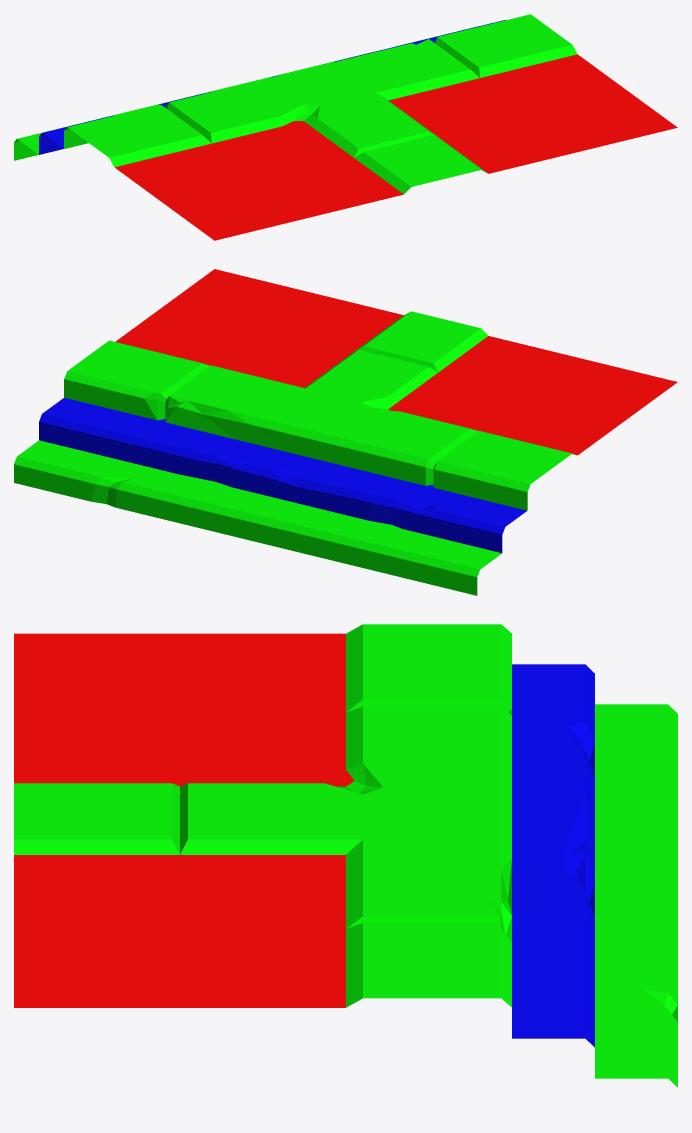
The model's file is dungeon_stairs_edge.fbx.
The picture shows the model from 3 angles, top to bottom: view 1: azimuth 30°, elevation 25°; view 2: azimuth 150°, elevation 25°; view 3: azimuth 270°, elevation 25°; orthographic projection. The views are drawn at different scales.
Parts seen in each view (by area): view 1: dungeon_stairs_edge; view 2: dungeon_stairs_edge; view 3: dungeon_stairs_edge.
Part boxes in pixels (<box>): dungeon_stairs_edge: <box>14,14,677,240</box>; dungeon_stairs_edge: <box>14,269,677,595</box>; dungeon_stairs_edge: <box>14,624,677,1087</box>.
Size of the model in its own units: 200 by 150 by 30.
